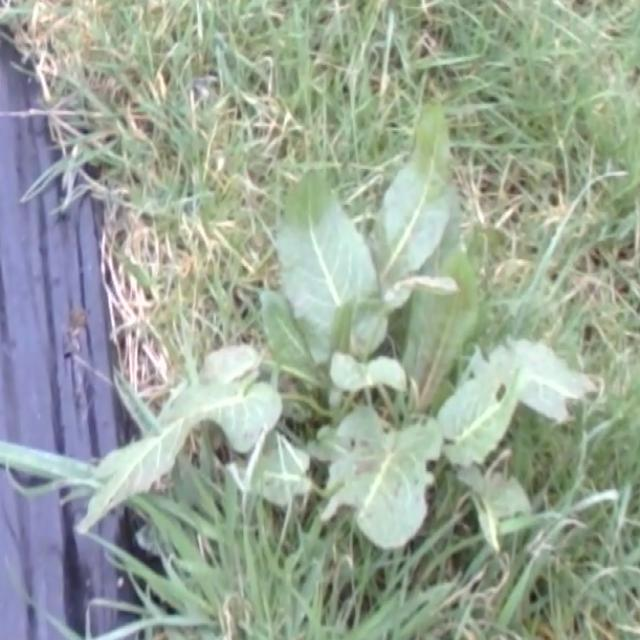organic waste: (48, 132, 635, 579)
